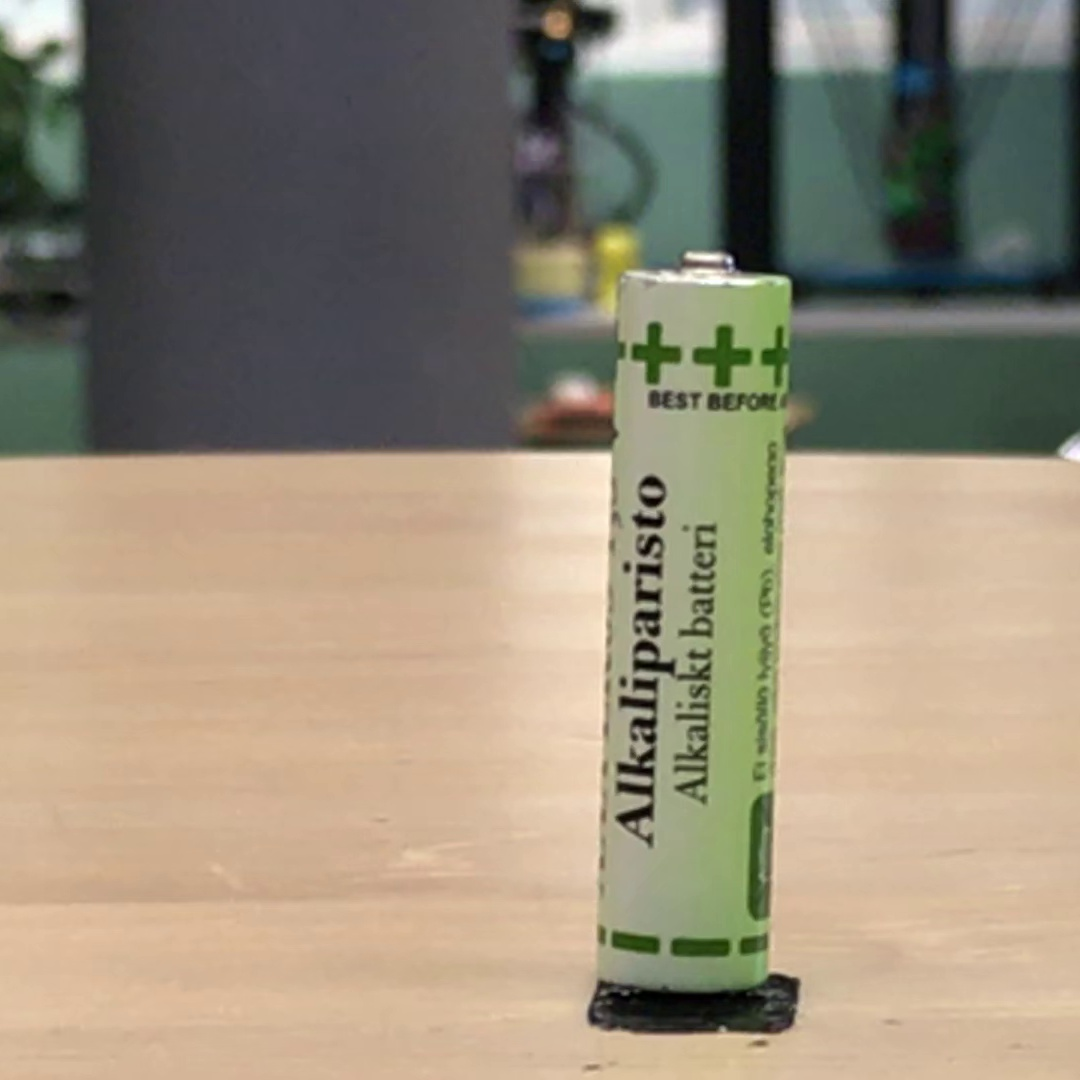keyword: (593, 755, 614, 878)
